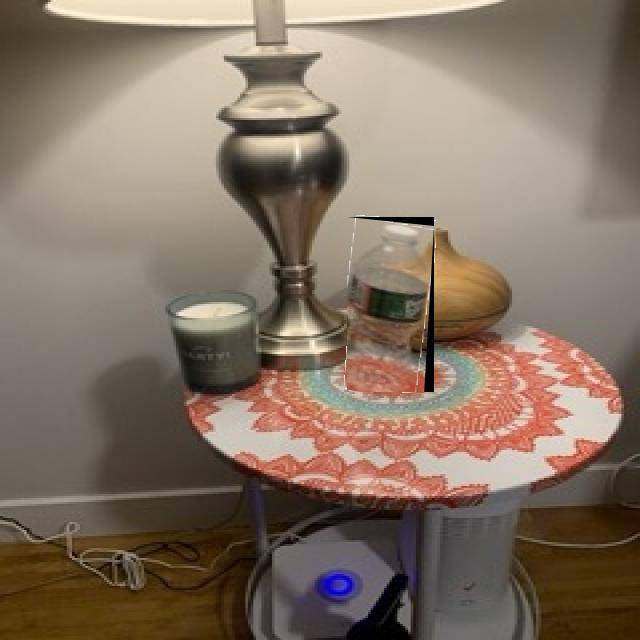water_bottle: (347, 217, 434, 392)
